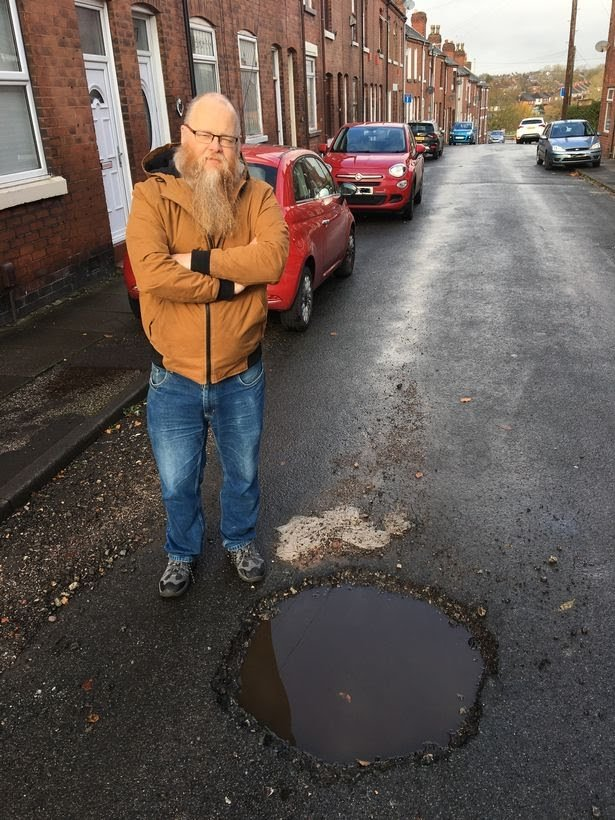pothole: (208, 560, 506, 775)
